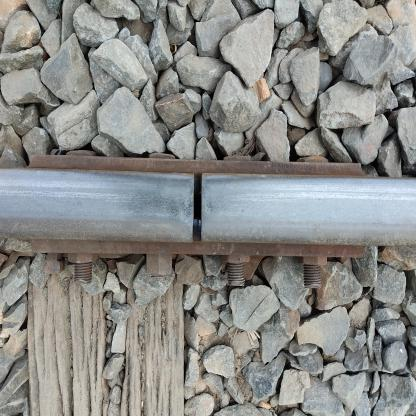Non Defective 2: (180, 184, 246, 284)
Non Defective 3: (49, 126, 399, 204)
